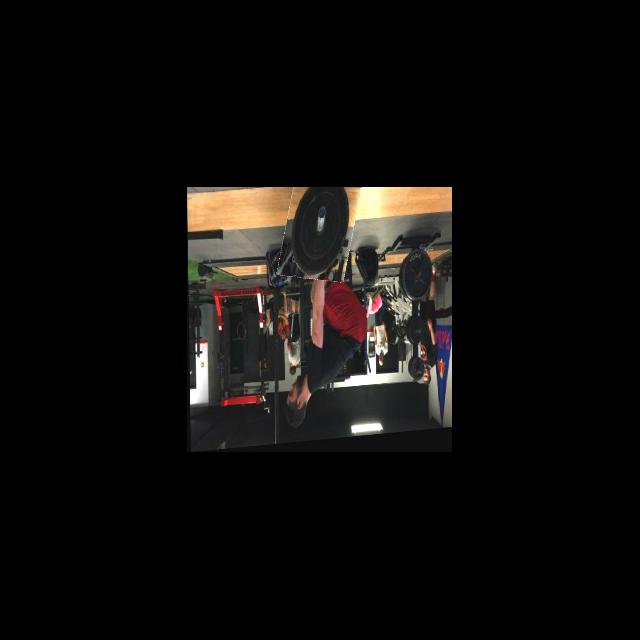barbell: (280, 187, 360, 287)
